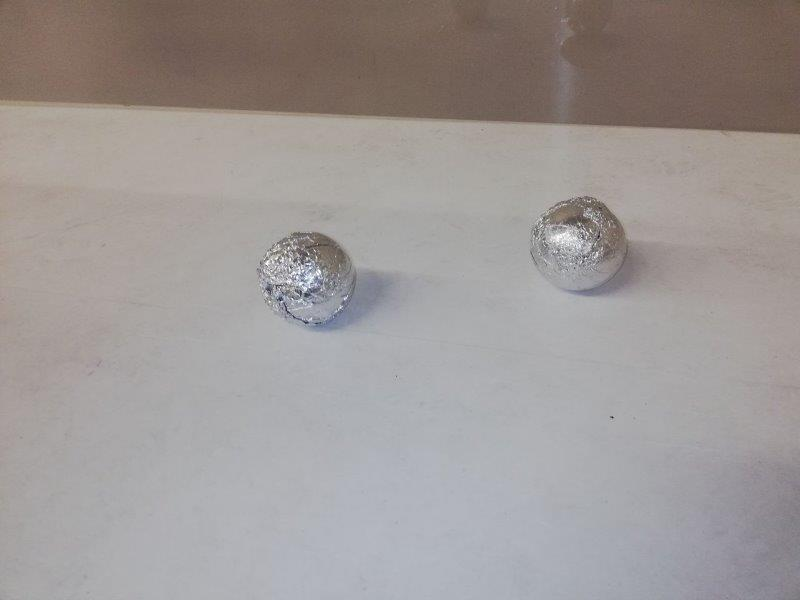bianca: (530, 192, 626, 292), (261, 228, 357, 326)
